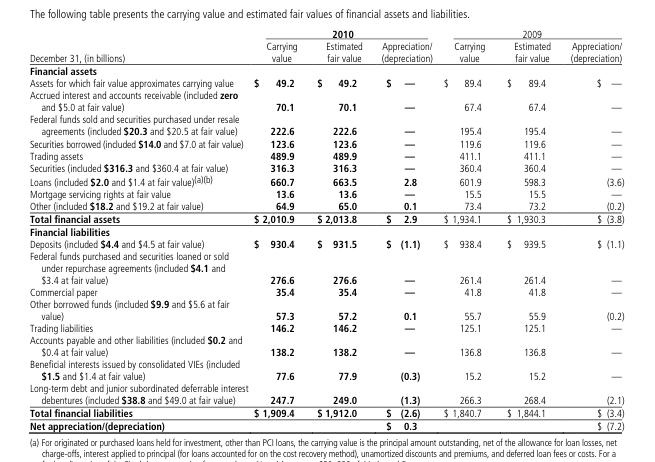table: (28, 28, 623, 430)
table column: (28, 28, 250, 430), (371, 28, 437, 430), (306, 28, 371, 430), (495, 28, 559, 430), (559, 28, 623, 430), (437, 28, 495, 430), (250, 28, 306, 430)
table column header: (28, 28, 623, 64)
table projected row header: (28, 64, 623, 77), (28, 225, 623, 237)
table row: (28, 249, 623, 285), (28, 39, 623, 64), (28, 89, 623, 113), (28, 113, 623, 137), (28, 334, 623, 358), (28, 358, 623, 382), (28, 382, 623, 406), (28, 298, 623, 321), (28, 173, 623, 187), (28, 64, 623, 77), (28, 199, 623, 212), (28, 212, 623, 225), (28, 285, 623, 298), (28, 321, 623, 334), (28, 406, 623, 419), (28, 77, 623, 89), (28, 137, 623, 149), (28, 149, 623, 161), (28, 161, 623, 173), (28, 187, 623, 199), (28, 225, 623, 237), (28, 237, 623, 249), (28, 28, 623, 39), (28, 419, 623, 430)
table spanning cell: (28, 28, 250, 64), (250, 28, 437, 39), (437, 28, 623, 39)
